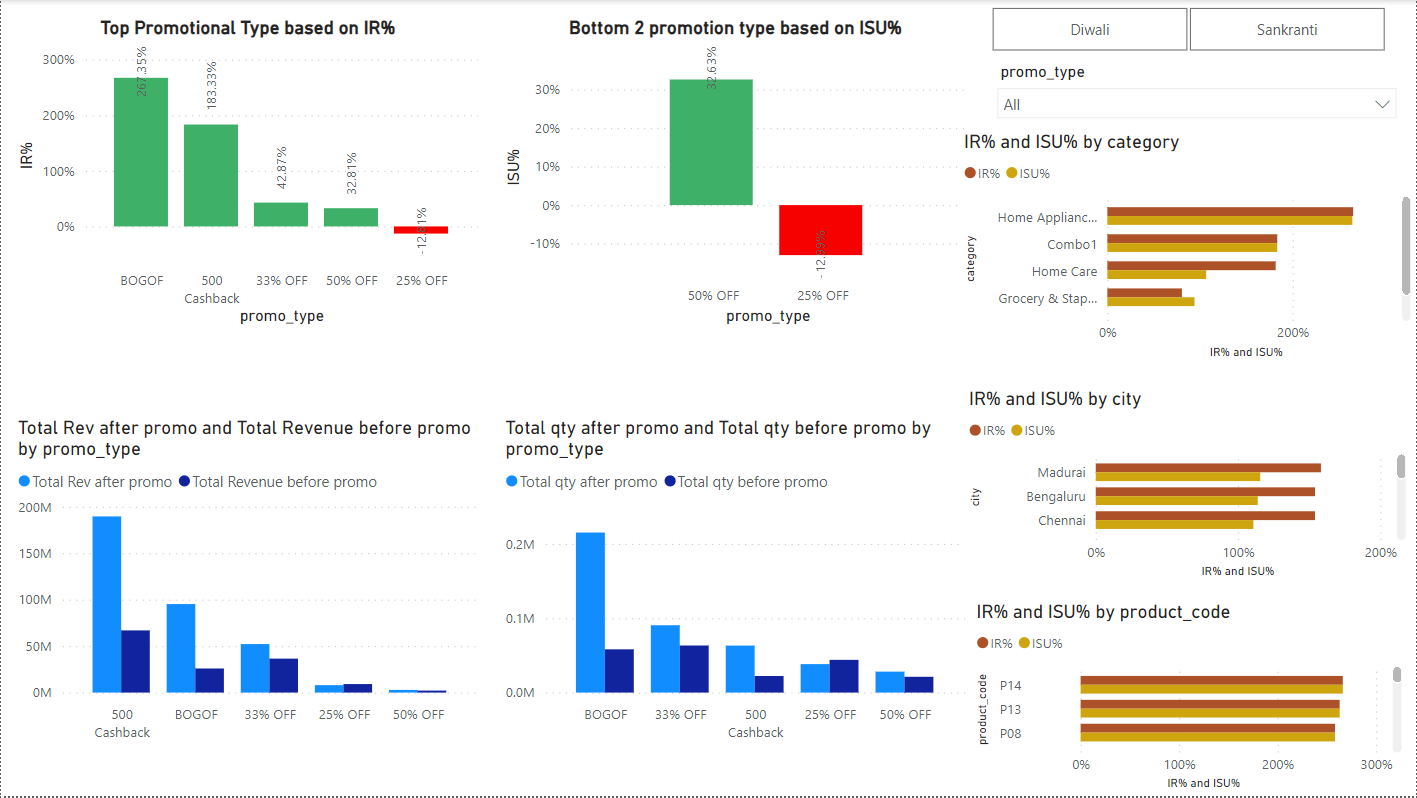

This screenshot's page, from the dashboard's own definition file:
{"tool":"powerbi","page":{"name":"Promotion_Type","canvas":[1280,720],"ordinal":1},"visuals":[{"type":"clusteredColumnChart","title":"Top Promotional Type based on IR%","fields":{"Y":["fact_events.IR%"],"Category":["fact_events.promo_type"]},"box":[10.6,15.1,426.3,284.2],"z":0},{"type":"clusteredColumnChart","title":"Bottom 2 promotion type based on ISU%","fields":{"Category":["fact_events.promo_type"],"Y":["fact_events.ISU%"]},"box":[450.5,15.1,426.3,284.2],"z":1},{"type":"clusteredColumnChart","fields":{"Category":["fact_events.promo_type"],"Y":["fact_events.Total Rev after promo","fact_events.Total Revenue before promo"]},"box":[10.6,376.4,426.3,300.8],"z":2},{"type":"clusteredColumnChart","fields":{"Category":["fact_events.promo_type"],"Y":["fact_events.Total qty after promo","fact_events.Total qty before promo"]},"box":[450.5,376.4,426.3,300.8],"z":3},{"type":"clusteredBarChart","fields":{"Category":["dim_products.category"],"Y":["fact_events.IR%","fact_events.ISU%"]},"box":[866.1,117.9,414.2,211.6],"z":4},{"type":"slicer","fields":{"Values":["dim_campaigns.campaign_name"]},"box":[870.7,0,405.1,52.9],"z":5},{"type":"clusteredBarChart","fields":{"Category":["dim_stores.city"],"Y":["fact_events.IR%","fact_events.ISU%"]},"box":[870.7,350.7,405.1,176.9],"z":6},{"type":"clusteredBarChart","fields":{"Category":["dim_products.product_code"],"Y":["fact_events.IR%","fact_events.ISU%"]},"box":[876.7,542.7,394.5,176.9],"z":7},{"type":"slicer","fields":{"Values":["fact_events.promo_type"]},"box":[890.3,51.4,380.9,66.5],"z":8}]}

Visuals, with their boxes in screenshot pixels (x1, y1, x2, y2), scaled from the page's 1280x720 canvas onto the 1417x798 screenshot:
"Top Promotional Type based on IR%" clusteredColumnChart: (x1=12, y1=17, x2=484, y2=332)
"Bottom 2 promotion type based on ISU%" clusteredColumnChart: (x1=499, y1=17, x2=971, y2=332)
clusteredColumnChart - fact_events.promo_type x fact_events.Total Rev after promo: (x1=12, y1=417, x2=484, y2=751)
clusteredColumnChart - fact_events.promo_type x fact_events.Total qty after promo: (x1=499, y1=417, x2=971, y2=751)
clusteredBarChart - dim_products.category x fact_events.IR%: (x1=959, y1=131, x2=1416, y2=365)
slicer - dim_campaigns.campaign_name: (x1=964, y1=0, x2=1412, y2=59)
clusteredBarChart - dim_stores.city x fact_events.IR%: (x1=964, y1=389, x2=1412, y2=585)
clusteredBarChart - dim_products.product_code x fact_events.IR%: (x1=971, y1=601, x2=1407, y2=797)
slicer - fact_events.promo_type: (x1=986, y1=57, x2=1407, y2=131)
